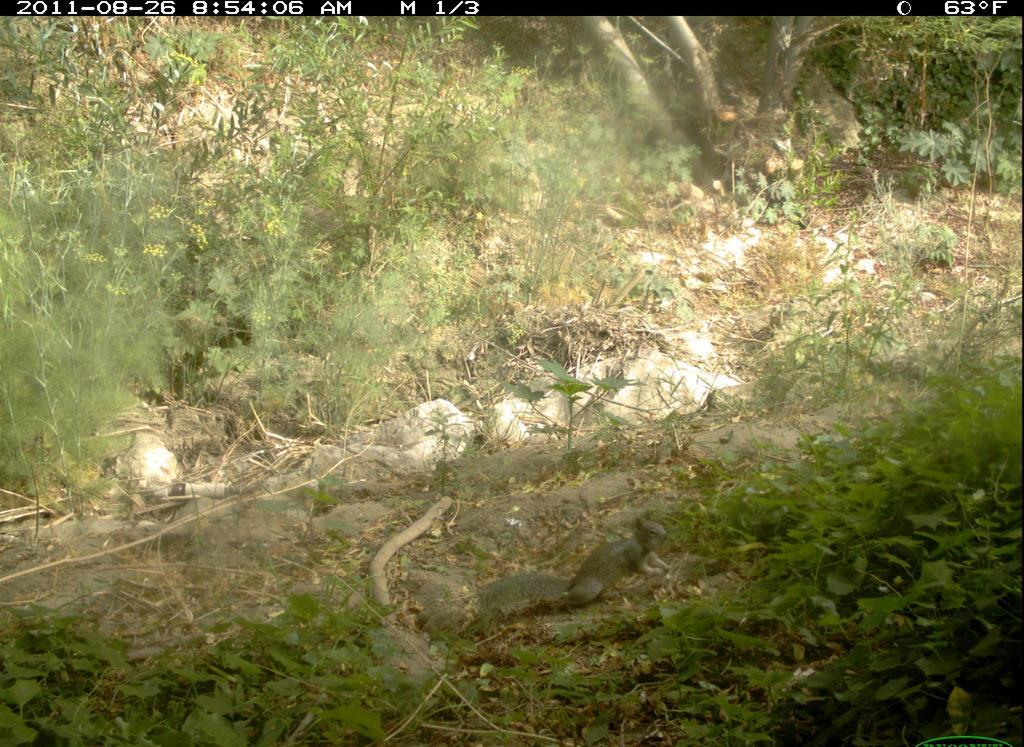squirrel: (502, 507, 702, 624)
